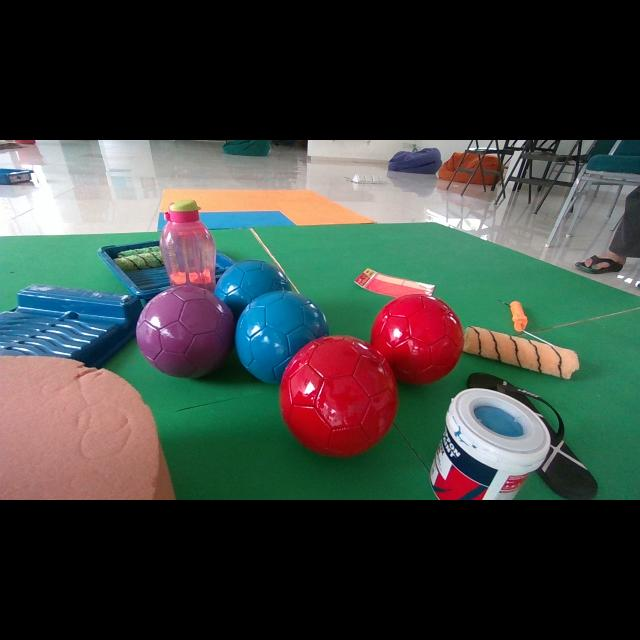B: (235, 290, 329, 382), (215, 260, 291, 318)
P: (136, 285, 235, 378)
R: (280, 336, 398, 456), (371, 295, 464, 384)
